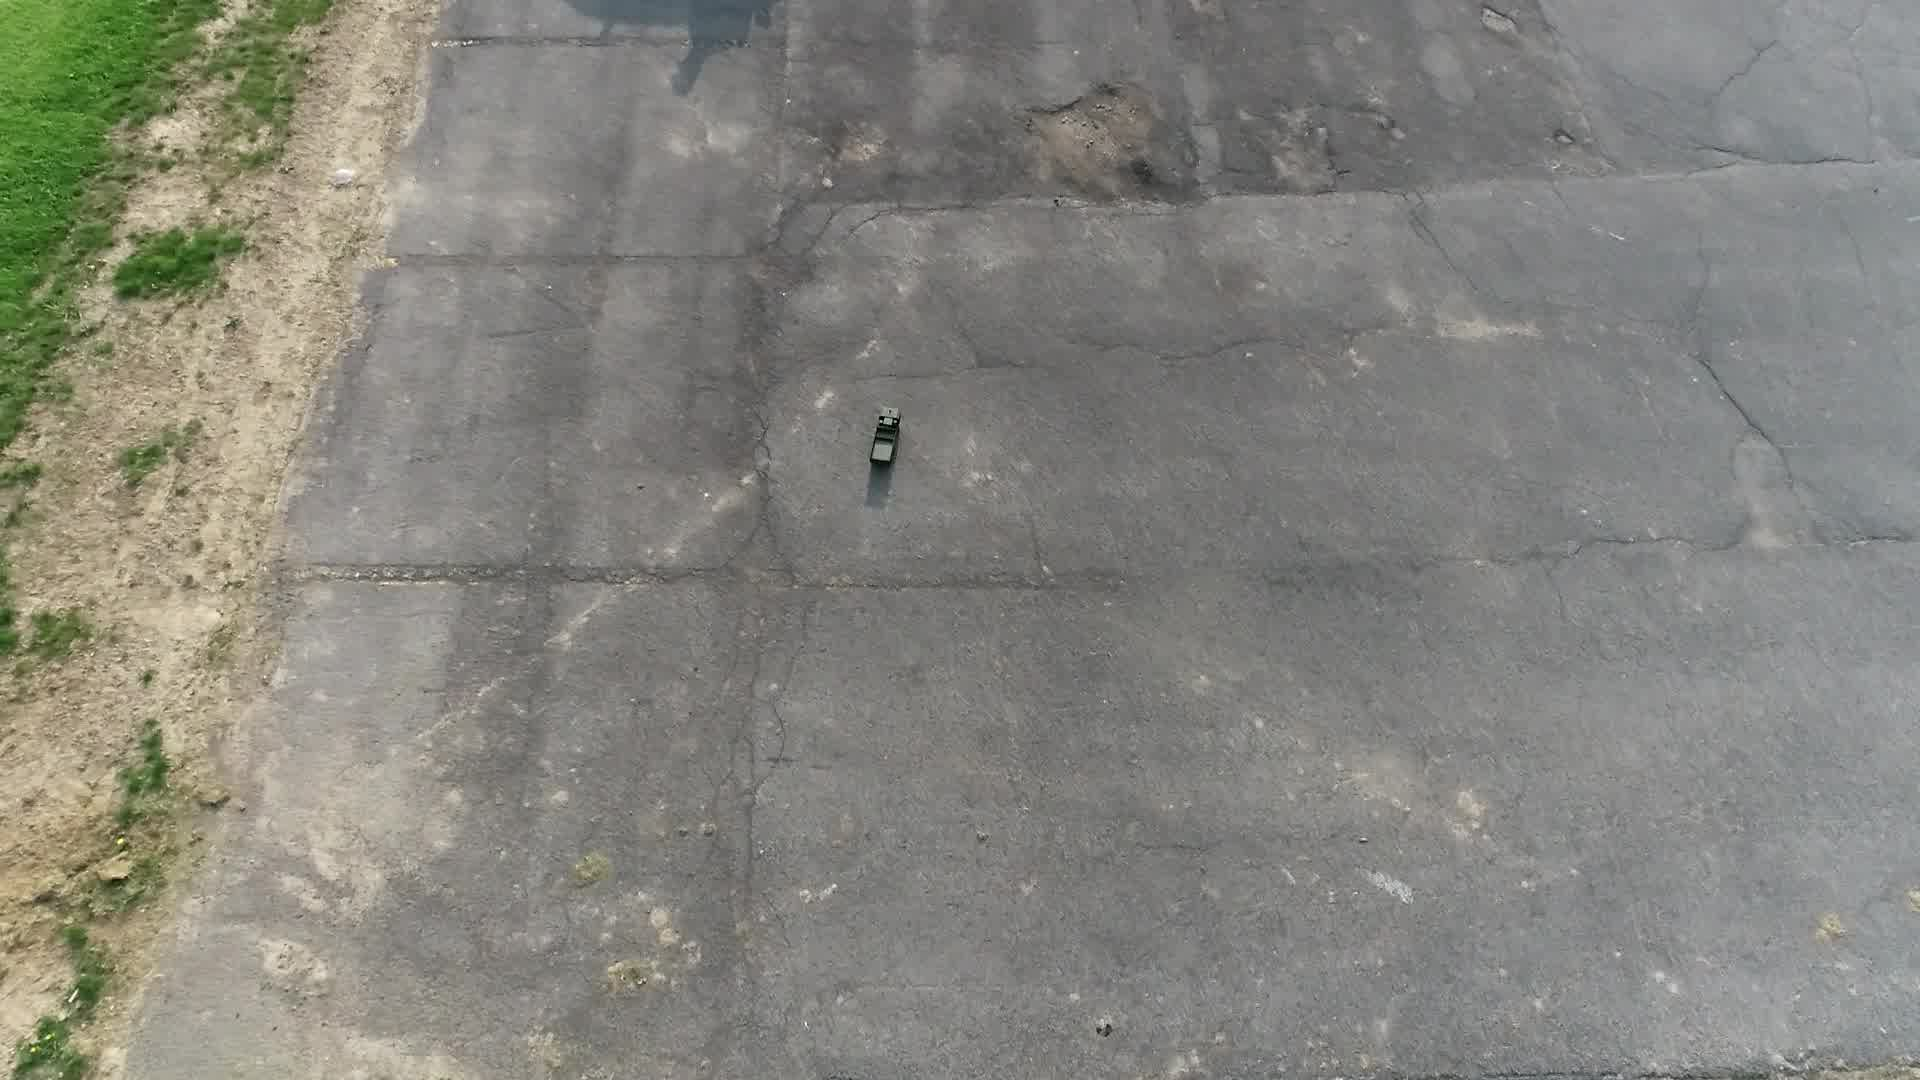transporter9: (862, 404, 909, 472)
